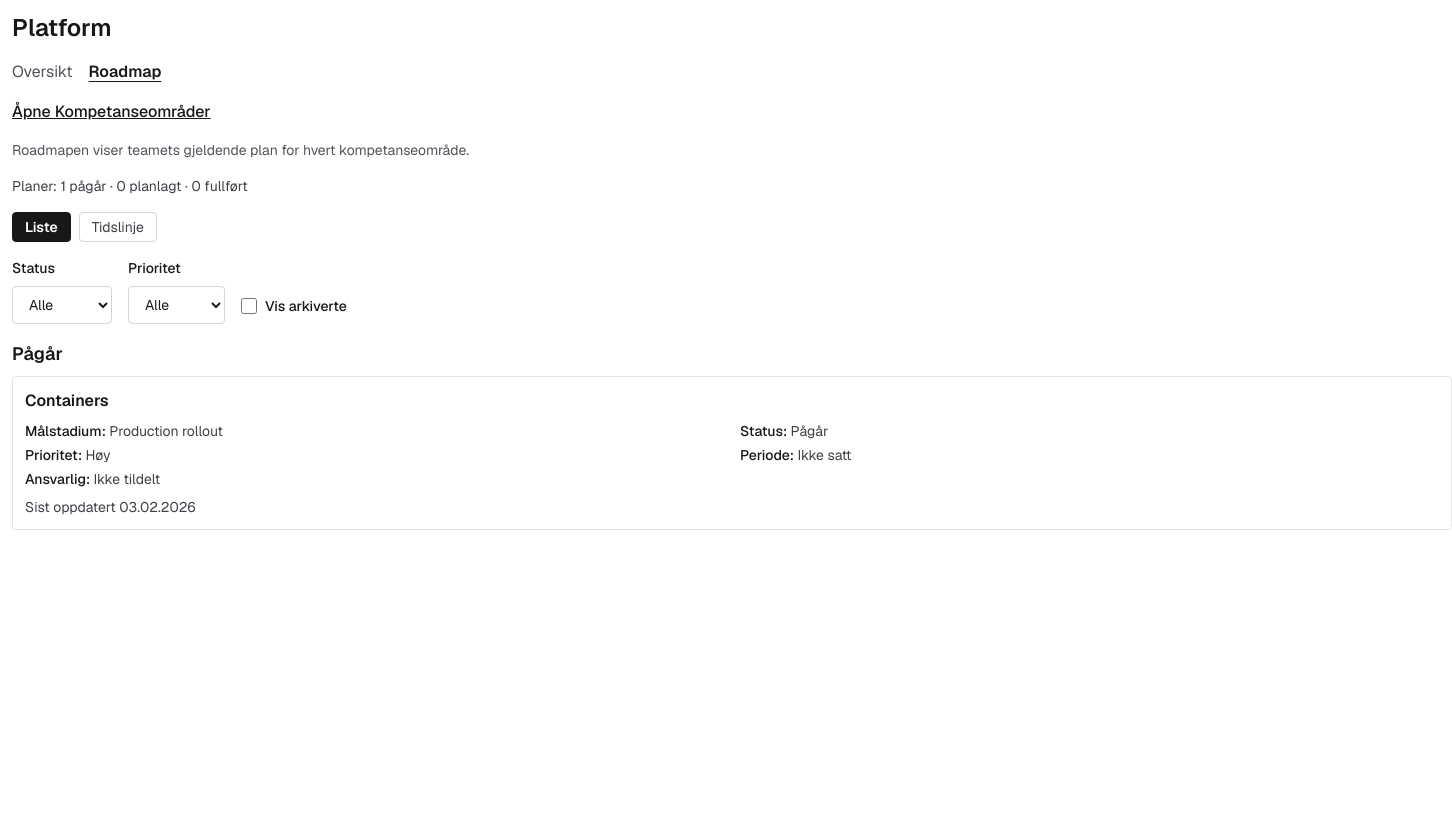
Test: Roadmap page editing — capability boundary › exposes no mutation control when canEdit is false (read-only member or admin)
Expected: the heading "Containers" is shown, [25, 390, 109, 411]
What coordinates should you click on to do the following:
click the checkbox labelled "Vis arkiverte"
I would click on:
 (249, 306)
Its box is [241, 298, 257, 314].
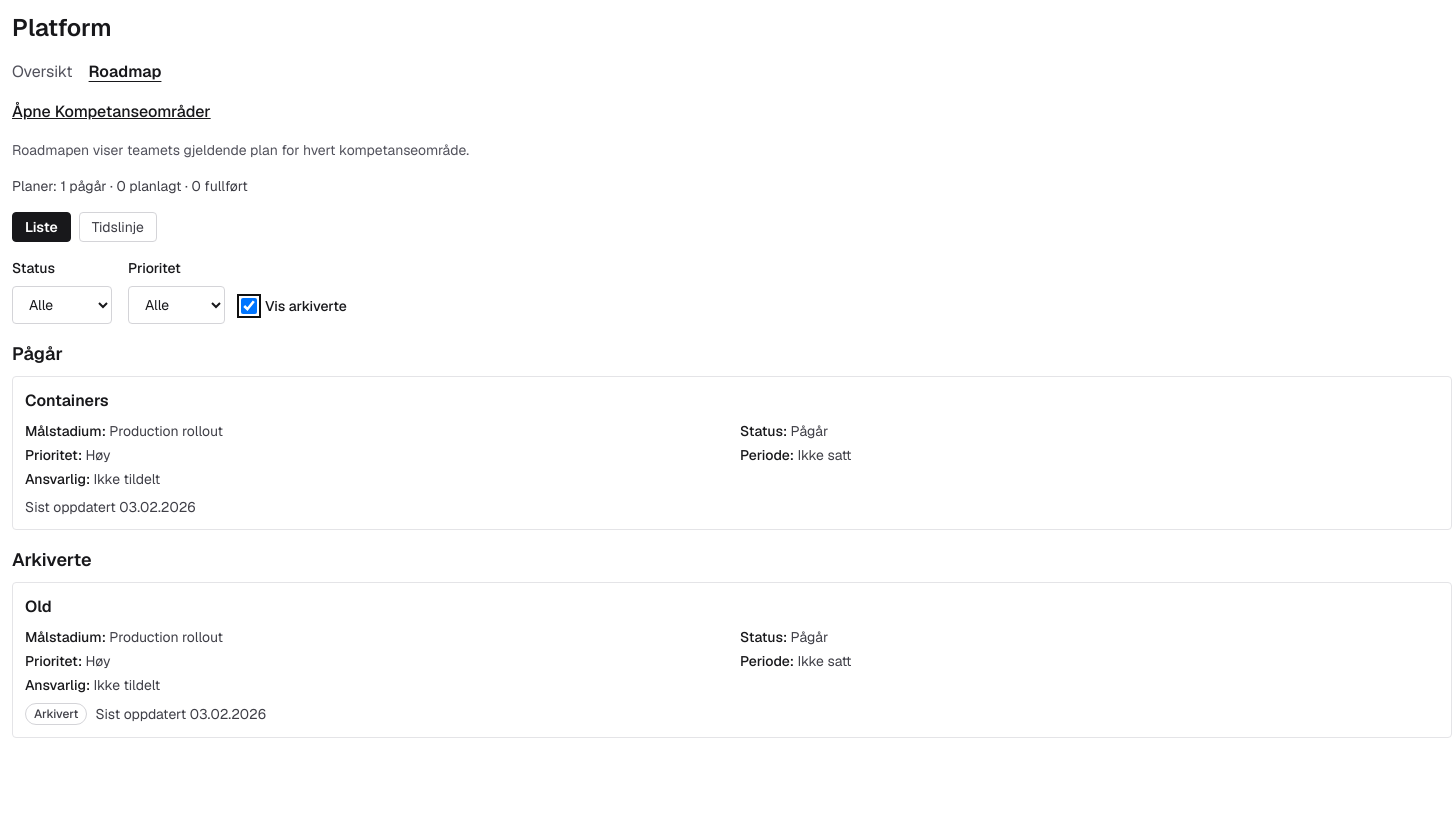
Result: the heading "Old" is shown at [25, 596, 52, 617]
